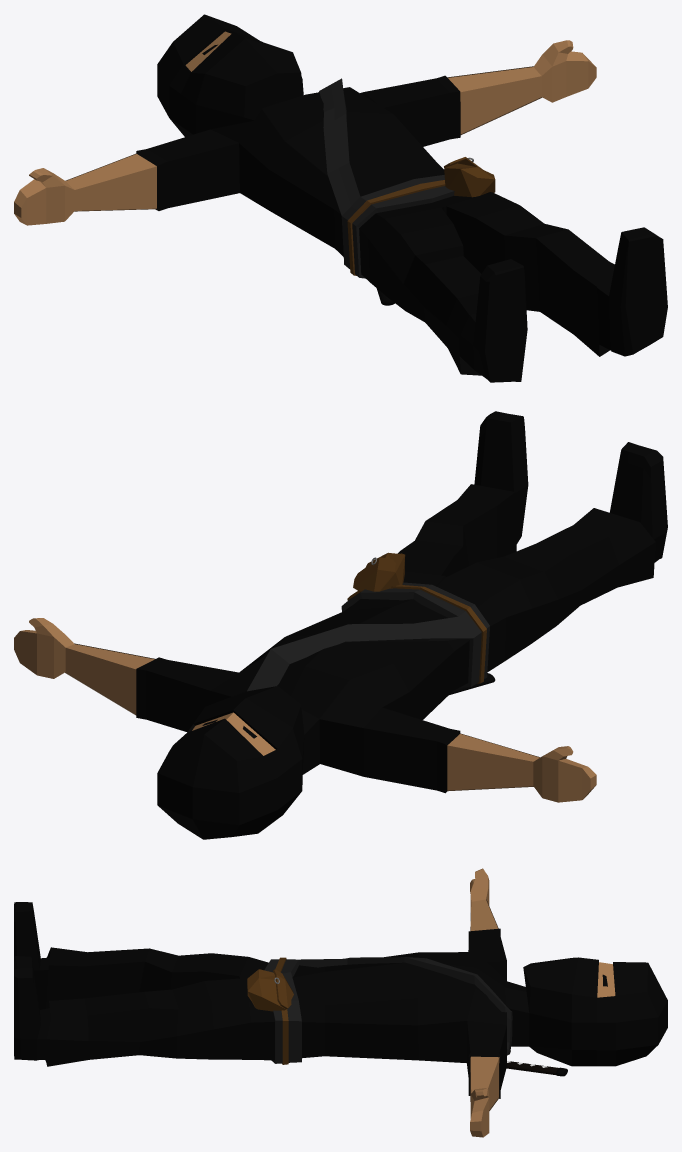
The model's file is ninja.fbx.
3 views of the same model, one above another, from view 1: azimuth 30°, elevation 25°; view 2: azimuth 150°, elevation 25°; view 3: azimuth 270°, elevation 25° (orthographic). The views are drawn at different scales.
Visible parts, largest first — view 1: Ninja; view 2: Ninja; view 3: Ninja.
Boxes of the visible parts, x1,y1,x2,y2 form: Ninja: (14, 14, 667, 382); Ninja: (14, 411, 667, 839); Ninja: (14, 868, 667, 1137).
Size of the model in its own units: 1142 by 277 by 1316.
